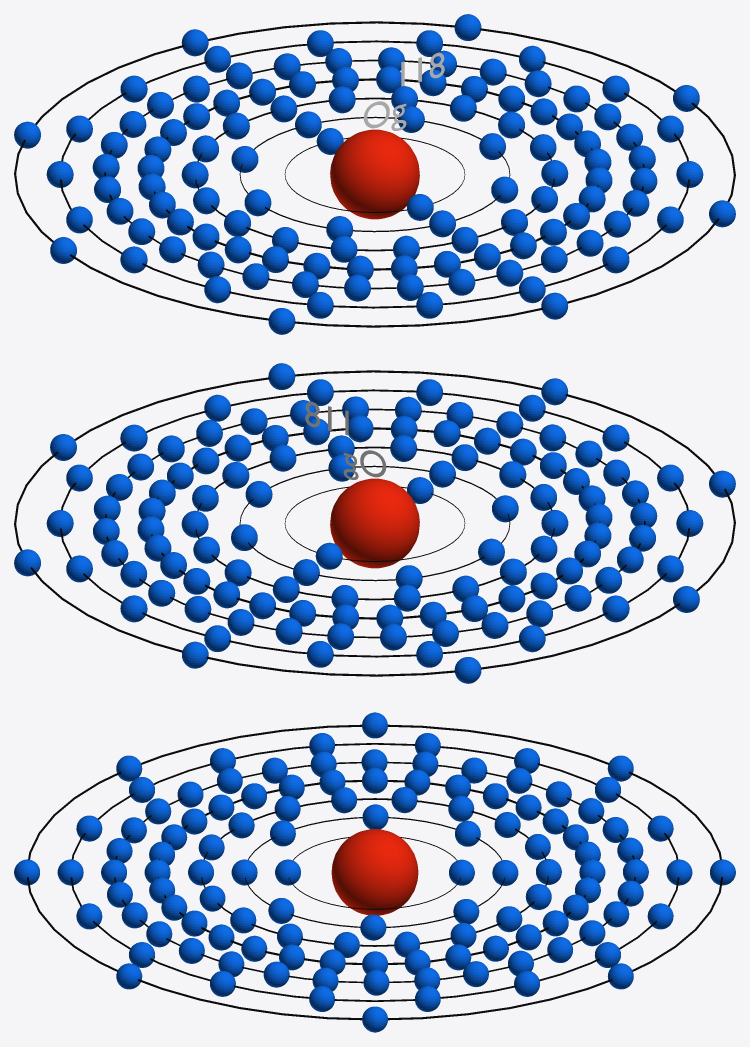
3 renders of one model, top to bottom at view 1: azimuth 30°, elevation 25°; view 2: azimuth 150°, elevation 25°; view 3: azimuth 270°, elevation 25°, orthographic. The views are drawn at different scales.
Visible parts, largest first — view 1: Og5, Og4, Og6, Og3, Proton, Og7, Og2, n7, n6, n5, Og1, n3 (+3 smaller); view 2: Og5, Og4, Og6, Og3, Proton, Og7, Og2, n7, n6, n5, Og1, n3 (+3 smaller); view 3: Og5, Og4, Og3, Og6, Proton, Og2, Og7, n7, n6, Og1, n5, n3 (+2 smaller).
Part boxes in pixels (x1,y1,x2,y2): Og5: (92,47,657,301); Og4: (137,66,612,280); Og6: (46,30,703,318); Og3: (181,86,568,262); Proton: (330,129,419,219); Og7: (14,14,735,334); Og2: (231,106,518,240); n7: (14,21,735,327); n6: (60,40,689,308); n5: (104,59,644,289); Og1: (316,128,433,220); n3: (195,97,554,251); Og5: (93,396,657,650); Og4: (137,415,612,629); Og6: (46,379,703,667); Og3: (181,435,568,611); Proton: (330,478,419,568); Og7: (14,363,735,683); Og2: (231,454,518,589); n7: (14,370,735,676); n6: (60,389,689,657); n5: (105,408,645,638); Og1: (315,477,433,569); n3: (195,446,554,600); Og5: (101,749,648,995); Og4: (144,767,605,974); Og3: (188,787,561,957); Og6: (57,733,692,1011); Proton: (331,829,418,915); Og2: (231,804,518,940); Og7: (14,712,735,1032); n7: (27,724,722,1020); n6: (70,743,679,1001); Og1: (275,859,474,885); n5: (114,761,635,983); n3: (201,798,548,946).
Size of the model in its own units: 830 by 180 by 830.
